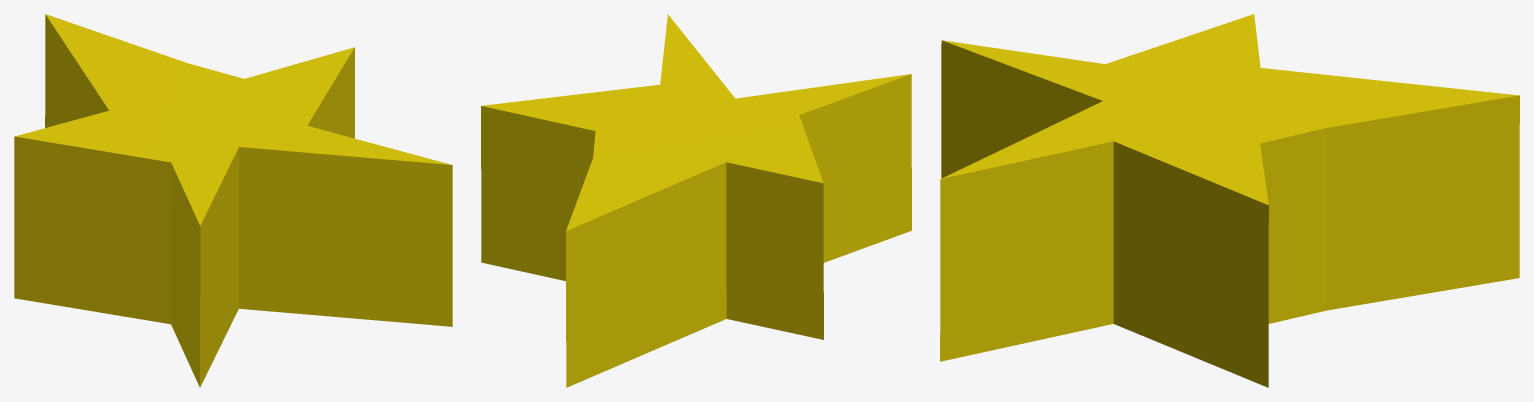
Rendered from Puzzle2Star.fbx.
3 views of the same model, side by side, from view 1: azimuth 30°, elevation 25°; view 2: azimuth 150°, elevation 25°; view 3: azimuth 270°, elevation 25° (orthographic). The views are drawn at different scales.
Visible parts, largest first — view 1: StarBlock; view 2: StarBlock; view 3: StarBlock.
Boxes of the visible parts, box(x1,y1,x2,y2) form: StarBlock: box(14, 14, 452, 387); StarBlock: box(481, 14, 911, 387); StarBlock: box(940, 14, 1519, 387).
Size of the model in its own units: 72.17 by 32.38 by 92.3.
